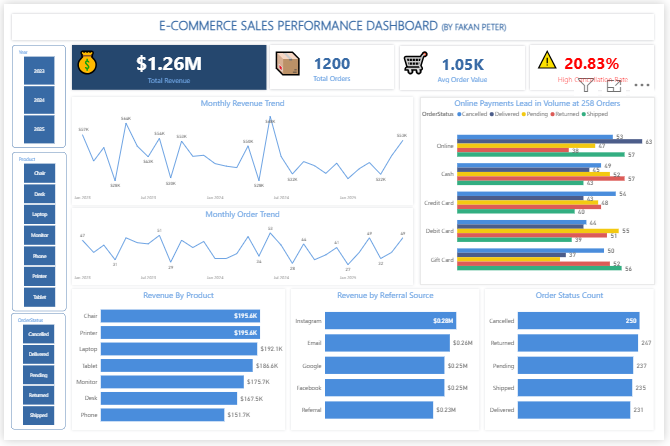

The dashboard page shown, as its layout file describes it:
{"tool":"powerbi","page":{"name":"Page 1","canvas":[1650,1090],"ordinal":0},"visuals":[{"type":"cardVisual","fields":{"Data":["Cleaned_Dataset.Total Revenue"]},"box":[169,102.4,485.7,111.9],"z":0},{"type":"cardVisual","fields":{"Data":["Cleaned_Dataset.Avg Order Value"]},"box":[988.9,103.5,311.4,111.4],"z":1000},{"type":"cardVisual","fields":{"Data":["Cleaned_Dataset.Cancellation Rate"]},"box":[1314.3,102.4,309.5,111.9],"z":2000},{"type":"cardVisual","fields":{"Data":["Cleaned_Dataset.Total Orders"]},"box":[666.1,103.5,309.1,111.4],"z":3000},{"type":"barChart","title":"Revenue By Product","fields":{"Category":["Cleaned_Dataset.Product"],"Y":["Cleaned_Dataset.Total Revenue"]},"box":[169.4,712.2,532.7,353.1],"z":4000},{"type":"barChart","title":"Order Status Count","fields":{"Y":["Cleaned_Dataset.Total Orders"],"Category":["Cleaned_Dataset.OrderStatus"]},"box":[1202,712.2,422.4,353.1],"z":5000},{"type":"clusteredBarChart","title":"Online Payments Lead in Volume at 258 Orders","fields":{"Category":["Cleaned_Dataset.PaymentMethod"],"Series":["Cleaned_Dataset.OrderStatus"],"Y":["CountNonNull(Cleaned_Dataset.OrderStatus)"]},"box":[1040.3,232.5,585.7,428.6],"z":6000},{"type":"slicer","fields":{"Values":["Cleaned_Dataset.Product"]},"box":[19.1,368.9,136.2,397.9],"z":7000},{"type":"slicer","fields":{"Values":["Cleaned_Dataset.OrderStatus"]},"box":[18.4,773,136.4,290.9],"z":8000},{"type":"textbox","box":[19.1,24.2,1604.3,66],"z":9000},{"type":"textbox","box":[1360,168.9,220,48.9],"z":10000},{"type":"lineChart","title":"Monthly Order Trend","fields":{"Y":["Cleaned_Dataset.Total Orders"],"Category":["Date Table.MonthYear.Variation.Date Hierarchy.Year"]},"box":[169.4,510.2,853.1,191.8],"z":11000},{"type":"barChart","title":"Revenue by Referral Source","fields":{"Category":["Cleaned_Dataset.ReferralSource"],"Y":["Cleaned_Dataset.Total Revenue"]},"box":[718.4,712.2,471.4,353.1],"z":12000},{"type":"lineChart","title":"Monthly Revenue Trend","fields":{"Category":["Date Table.MonthYear.Variation.Date Hierarchy.Year","Date Table.MonthYear.Variation.Date Hierarchy.Month"],"Y":["Cleaned_Dataset.Total Revenue"]},"box":[169.4,232.7,853.1,269.4],"z":13000},{"type":"slicer","fields":{"Values":["Date Table.Year"]},"box":[19.6,103.3,134.3,256.7],"z":14000},{"type":"textbox","box":[168.9,102.2,75.6,84.4],"z":15000},{"type":"textbox","box":[666.3,105.3,82.1,84.2],"z":16000},{"type":"textbox","box":[988.4,103.2,78.9,83.2],"z":17000},{"type":"textbox","box":[1319.5,102.4,75.6,82.9],"z":18000}]}

Visuals, with their boxes in screenshot pixels (x1, y1, x2, y2), scaled from the page's 1650x1090 canvas onto the 670x446 screenshot:
cardVisual - Cleaned_Dataset.Total Revenue: left=69, top=42, right=266, bottom=88
cardVisual - Cleaned_Dataset.Avg Order Value: left=402, top=42, right=528, bottom=88
cardVisual - Cleaned_Dataset.Cancellation Rate: left=534, top=42, right=659, bottom=88
cardVisual - Cleaned_Dataset.Total Orders: left=270, top=42, right=396, bottom=88
"Revenue By Product" barChart: left=69, top=291, right=285, bottom=436
"Order Status Count" barChart: left=488, top=291, right=660, bottom=436
"Online Payments Lead in Volume at 258 Orders" clusteredBarChart: left=422, top=95, right=660, bottom=271
slicer - Cleaned_Dataset.Product: left=8, top=151, right=63, bottom=314
slicer - Cleaned_Dataset.OrderStatus: left=7, top=316, right=63, bottom=435
textbox: left=8, top=10, right=659, bottom=37
textbox: left=552, top=69, right=642, bottom=89
"Monthly Order Trend" lineChart: left=69, top=209, right=415, bottom=287
"Revenue by Referral Source" barChart: left=292, top=291, right=483, bottom=436
"Monthly Revenue Trend" lineChart: left=69, top=95, right=415, bottom=205
slicer - Date Table.Year: left=8, top=42, right=62, bottom=147
textbox: left=69, top=42, right=99, bottom=76
textbox: left=271, top=43, right=304, bottom=78
textbox: left=401, top=42, right=433, bottom=76
textbox: left=536, top=42, right=566, bottom=76
